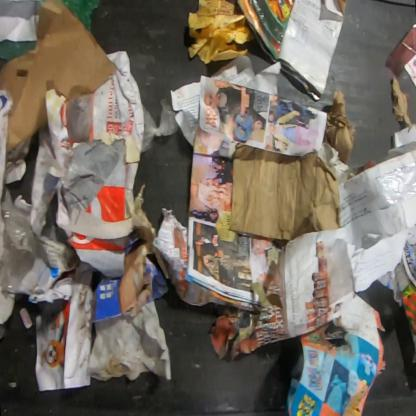cardboard: (0, 0, 120, 153), (228, 141, 341, 242), (91, 182, 170, 324), (88, 51, 144, 164), (61, 140, 126, 223), (61, 232, 130, 277), (322, 88, 357, 165), (392, 74, 414, 133)
rigid_plastic: (66, 94, 91, 144)
soft_plastic: (0, 183, 53, 303), (141, 96, 180, 154), (384, 22, 416, 79), (60, 0, 102, 34), (0, 39, 36, 63)
